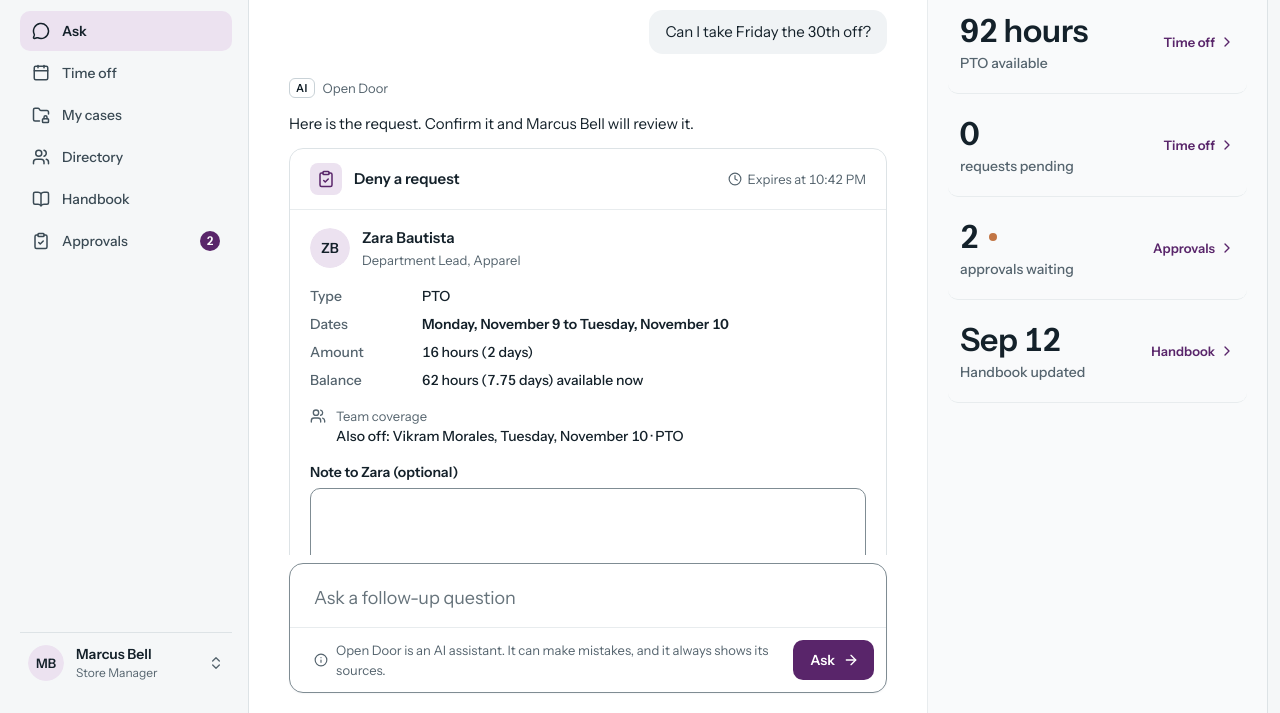
Test: Confirm › sends a denial’s note, and after a reload the card says the note will be seen
Type "Two of us are out." into the text box labelled "Note to Zara (optional)".
click(588, 547); type("Two of us are out.")  # box [310,488,866,606]
(page scrolled)
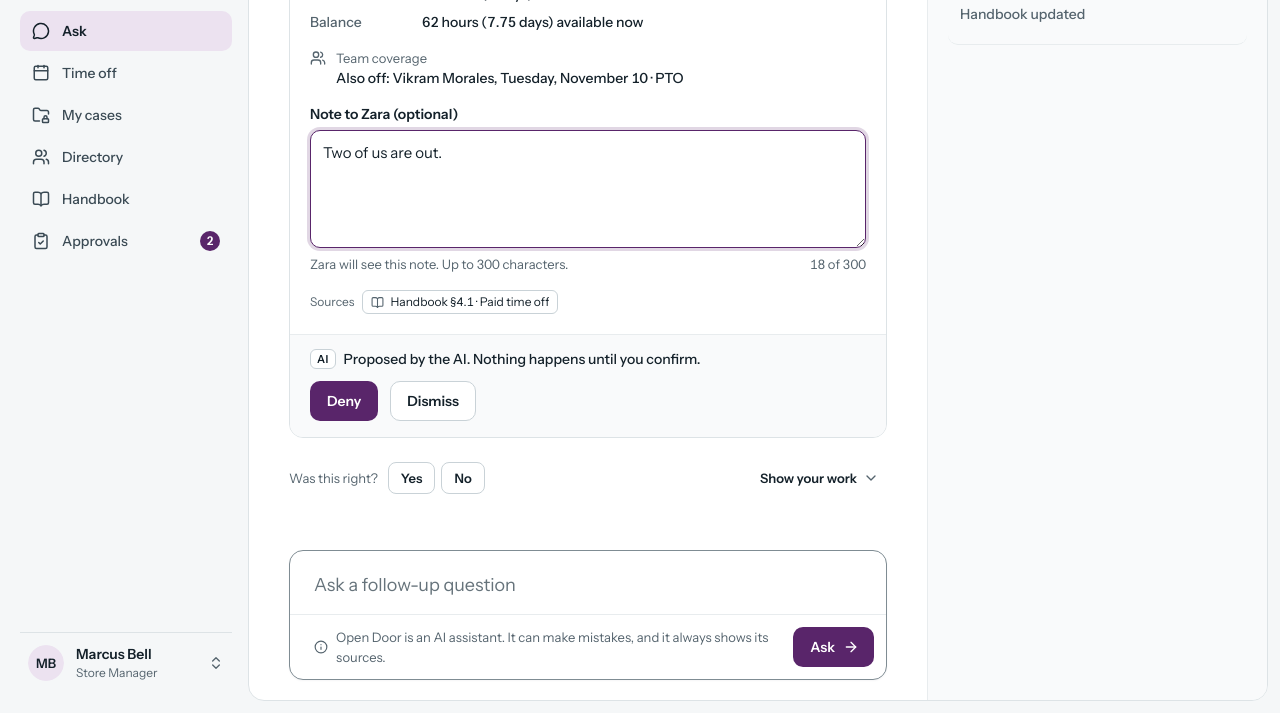
Click the button with aria-label "Confirm: deny".
click(344, 401)  # box [310,381,378,421]
(page scrolled)
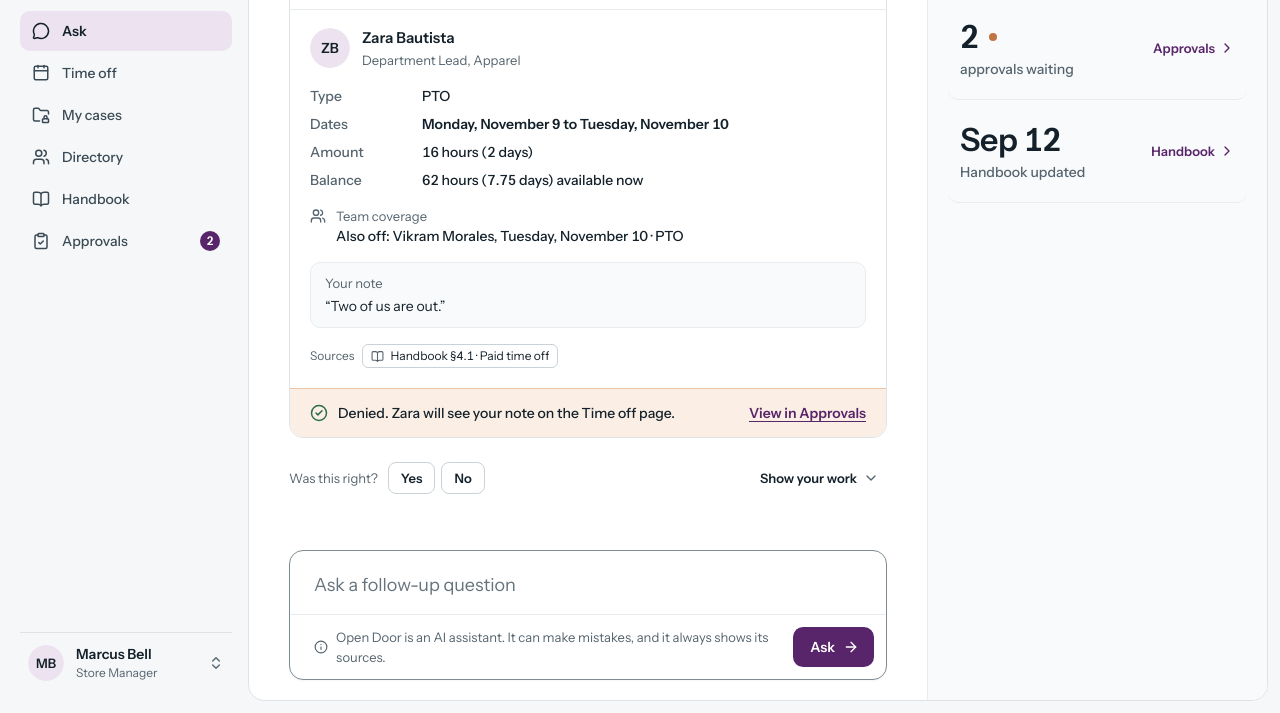
Now the text "Denied. Zara will see your note on the Time off page." is shown, box [338,404,675,422]
Now the text "“Two of us are out.”" is shown, box [325,297,446,315]
